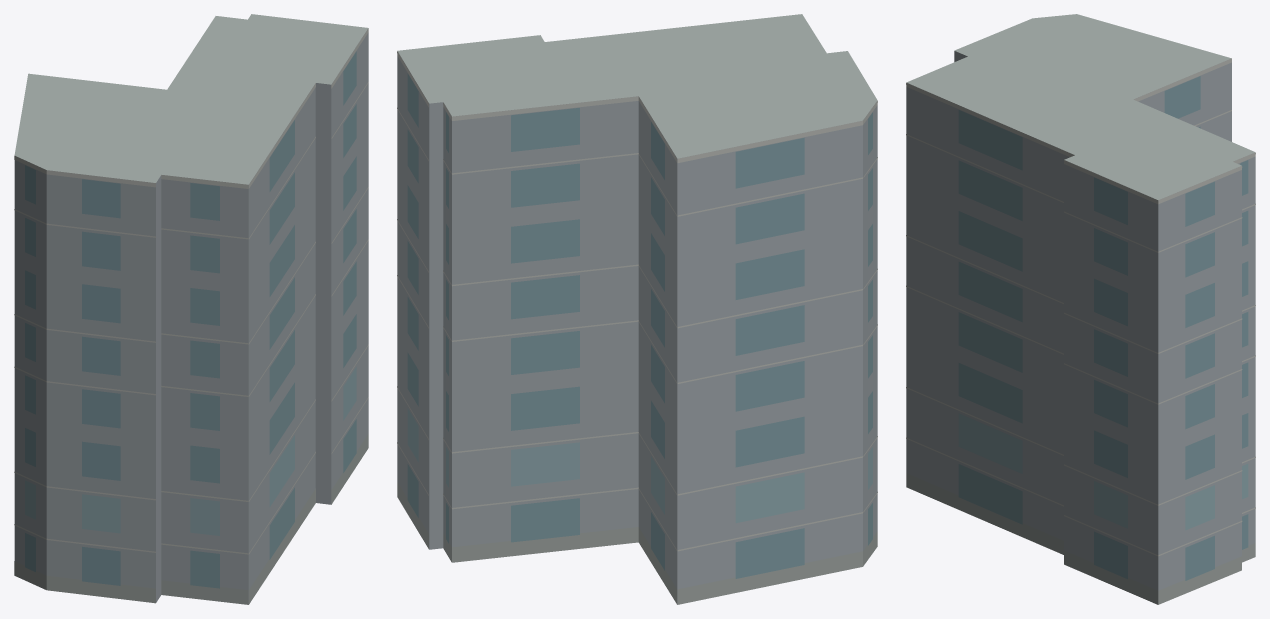
The model's file is survey-upis-32926131.glb.
3 renders of one model, left to right at view 1: azimuth 30°, elevation 25°; view 2: azimuth 150°, elevation 25°; view 3: azimuth 270°, elevation 25°, orthographic. The views are drawn at different scales.
Visible parts, largest first — view 1: survey-upis-32926131.tmp; view 2: survey-upis-32926131.tmp; view 3: survey-upis-32926131.tmp.
Boxes of the visible parts, x1,y1,x2,y2 form: survey-upis-32926131.tmp: [14, 14, 368, 604]; survey-upis-32926131.tmp: [397, 14, 877, 604]; survey-upis-32926131.tmp: [906, 14, 1255, 604].
Bounding box in the file's own units: 23.41 × 23.7 × 18.57.
